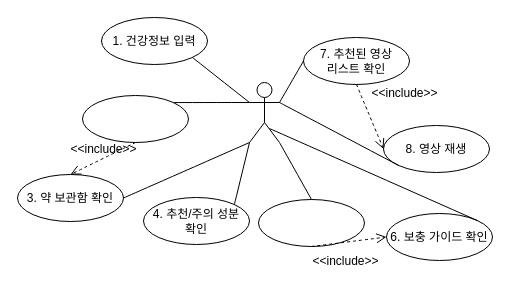
This 510x285 diagram has some shape labels left out. The shapes that lost their labels are listed below. From the top down, each one's box as (x1, y1, x2, y2) in pixels, then its label:
(82, 94, 188, 142): 2. 복약 정보 업로드
(248, 82, 280, 142): 사용자
(258, 198, 364, 246): 5. 식단 확인
